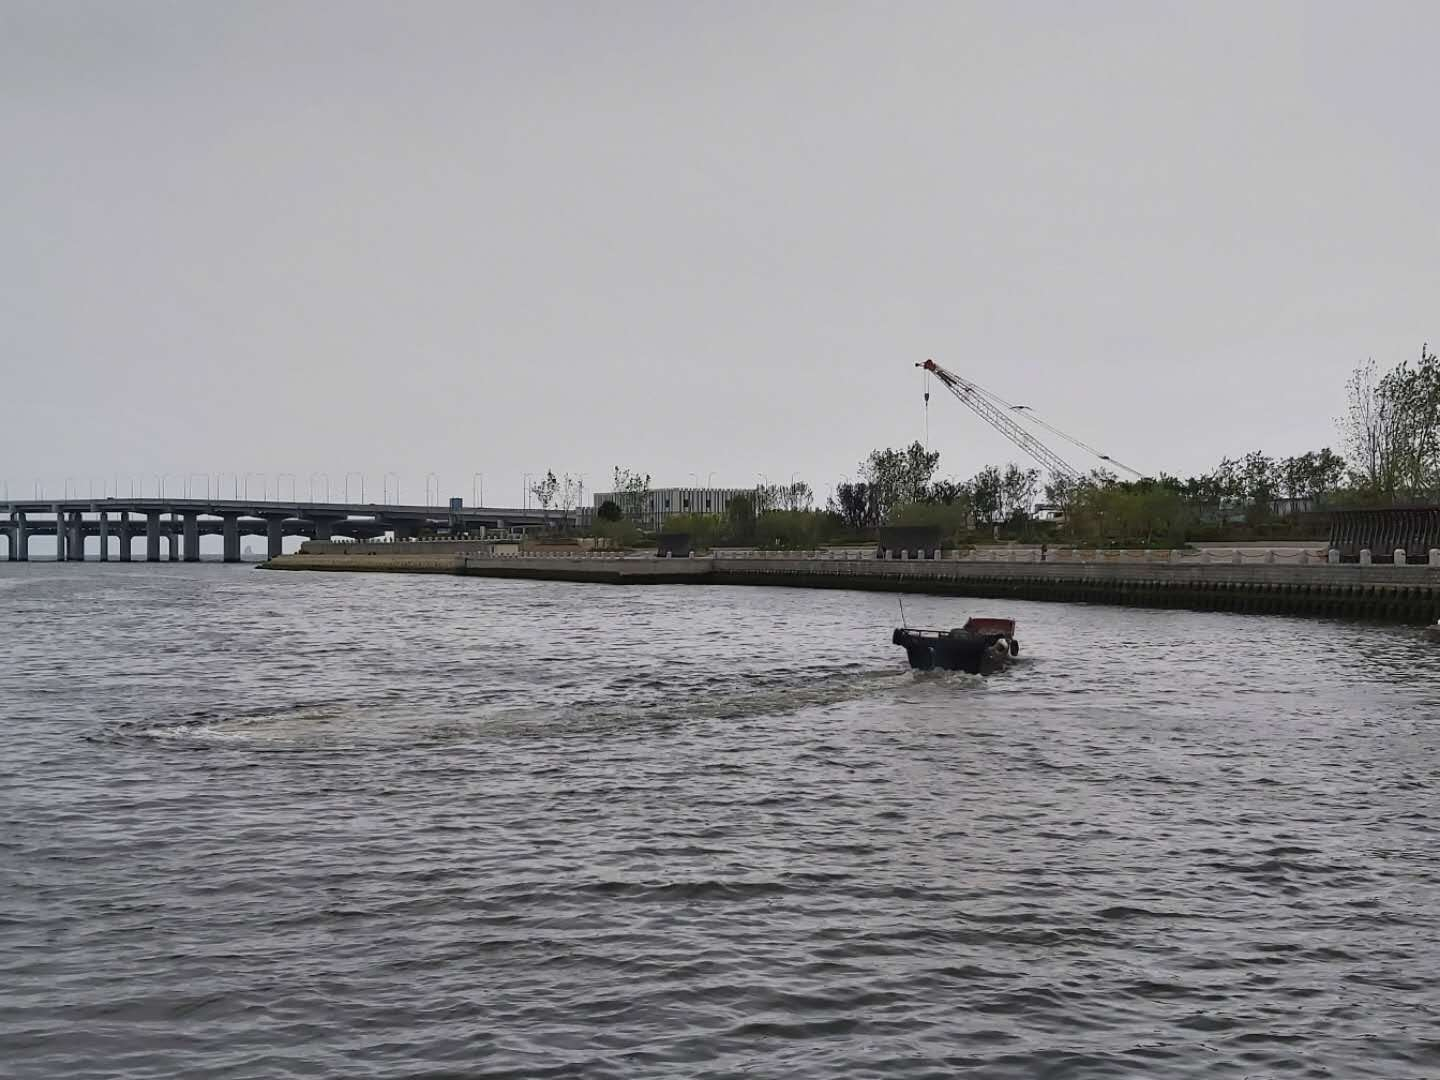boat: (888, 608, 1026, 683)
bridge: (3, 476, 300, 562)
